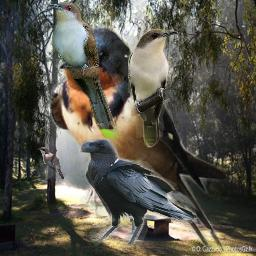Crow: (78, 139, 197, 246)
Cuckoo: (48, 1, 119, 140), (128, 29, 178, 148), (36, 146, 64, 180)
Swallow: (45, 25, 226, 254)
